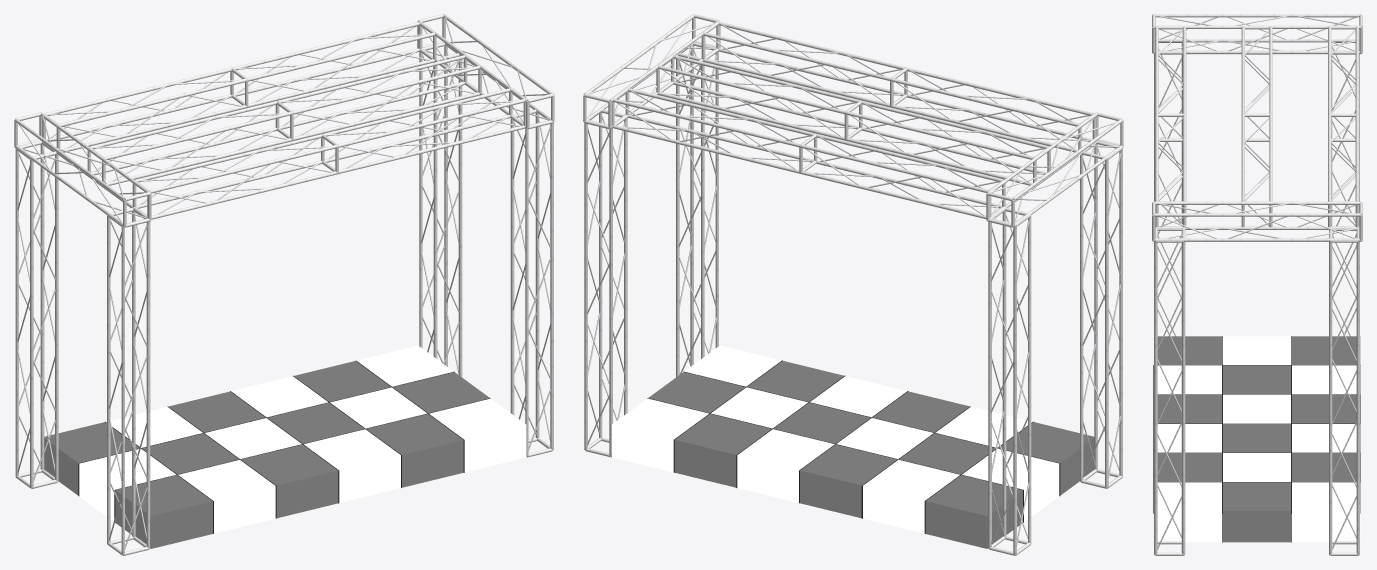
File: stage-asiba3_mono.glb
3 renders of one model, left to right at view 1: azimuth 30°, elevation 25°; view 2: azimuth 150°, elevation 25°; view 3: azimuth 270°, elevation 25°, orthographic. The views are drawn at different scales.
Visible parts, largest first — view 1: bou3 (×10), bou4 (×10), bou1 (×10), bou2 (×10), Cube (1) (×2), Cube (8) (×2), Cube (7) (×2), Cube (5) (×2), Cube (4) (×2), Cube (×2), Cube (2) (×2), Cube (3) (×2) (+1 smaller); view 2: bou1 (×10), bou2 (×10), bou3 (×10), bou4 (×10), Cube (×2), Cube (7) (×2), Cube (4) (×2), Cube (3) (×2), Cube (6) (×2), Cube (8) (×2), Cube (1) (×2), Cube (2) (×2) (+1 smaller); view 3: bou1 (×10), Cube (2) (×3), bou3 (×11), Cube (×3), Cube (1) (×3), Cube (5) (×3), Cube (4) (×3), Cube (6) (×2), Cube (3) (×2), Cube (8) (×2), Cube (7) (×2), bou2 (×2) (+1 smaller).
Part boxes in pixels (x1,y1,x2,y2): bou3 (×10): (55, 32, 553, 548); bou4 (×10): (30, 59, 528, 554); bou1 (×10): (40, 22, 539, 536); bou2 (×10): (15, 48, 514, 543); Cube (1) (×2): (366, 398, 526, 487); Cube (8) (×2): (79, 449, 212, 548); Cube (7) (×2): (44, 422, 275, 533); Cube (5) (×2): (205, 418, 338, 518); Cube (4) (×2): (168, 391, 400, 502); Cube (×2): (294, 345, 453, 401); Cube (2) (×2): (330, 372, 489, 428); Cube (3) (×2): (231, 376, 364, 443); bou1 (×10): (584, 32, 1083, 548); bou2 (×10): (609, 58, 1108, 554); bou3 (×10): (599, 21, 1097, 536); bou4 (×10): (624, 48, 1122, 543); Cube (×2): (612, 398, 771, 487); Cube (7) (×2): (925, 406, 1032, 548); Cube (4) (×2): (800, 376, 906, 518); Cube (3) (×2): (737, 402, 870, 502); Cube (6) (×2): (863, 433, 995, 533); Cube (8) (×2): (962, 422, 1094, 521); Cube (1) (×2): (684, 345, 844, 401); Cube (2) (×2): (648, 372, 807, 428); bou1 (×10): (1153, 25, 1361, 554); Cube (2) (×3): (1153, 453, 1360, 542); bou3 (×11): (1153, 26, 1361, 554); Cube (×3): (1153, 423, 1360, 542); Cube (1) (×3): (1153, 452, 1360, 542); Cube (5) (×3): (1153, 365, 1360, 423); Cube (4) (×3): (1153, 394, 1360, 452); Cube (6) (×2): (1223, 365, 1360, 394); Cube (3) (×2): (1223, 424, 1360, 452); Cube (8) (×2): (1157, 336, 1290, 364); Cube (7) (×2): (1157, 336, 1360, 394); bou2 (×2): (1154, 14, 1360, 204).
Size of the model in its own units: 6.89 by 5.46 by 3.05.
Materials: 4 (1 with a texture image).
